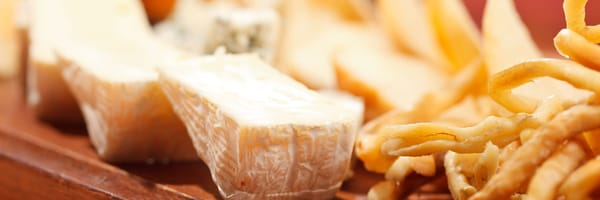soup: (156, 52, 365, 197)
